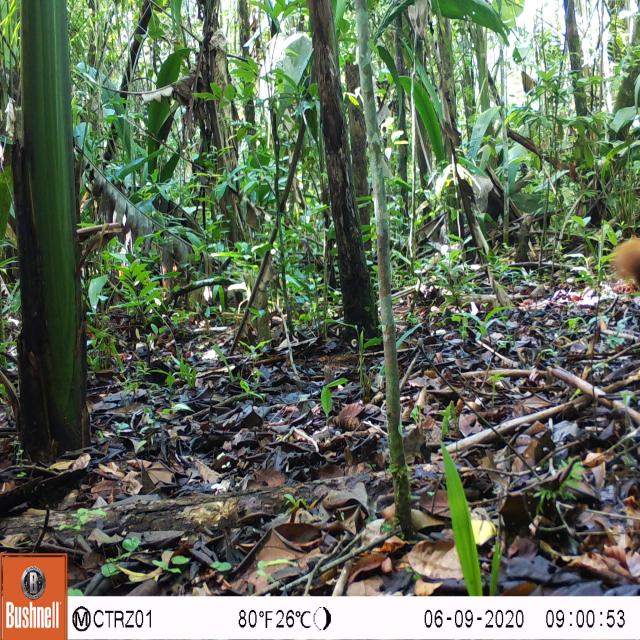Squirrel: (602, 233, 640, 296)
